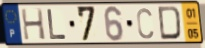6: (103, 5, 124, 43)
7: (75, 5, 97, 43)
C: (136, 6, 155, 40)
D: (157, 5, 183, 41)
H: (19, 8, 47, 42)
L: (46, 8, 68, 41)
